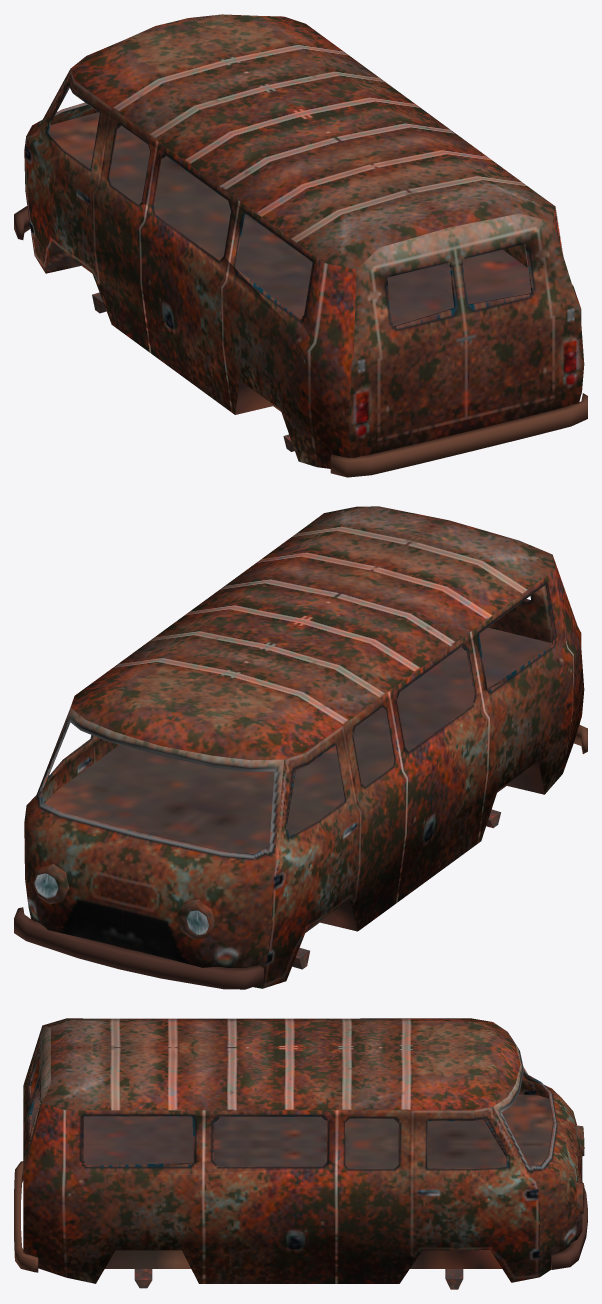
File: uaz-452-destroyed.glb
3 renders of one model, top to bottom at view 1: azimuth 30°, elevation 25°; view 2: azimuth 150°, elevation 25°; view 3: azimuth 270°, elevation 25°, orthographic. The views are drawn at different scales.
Visible parts, largest first — view 1: Vehicle_uaz-452-destroyed; view 2: Vehicle_uaz-452-destroyed; view 3: Vehicle_uaz-452-destroyed.
Boxes of the visible parts, <box> form: Vehicle_uaz-452-destroyed: <box>14,14,587,477</box>; Vehicle_uaz-452-destroyed: <box>14,506,587,989</box>; Vehicle_uaz-452-destroyed: <box>14,1018,587,1289</box>.
Size of the model in its own units: 0.4907 by 0.4582 by 1.12.
Materials: 1 (1 with a texture image).
